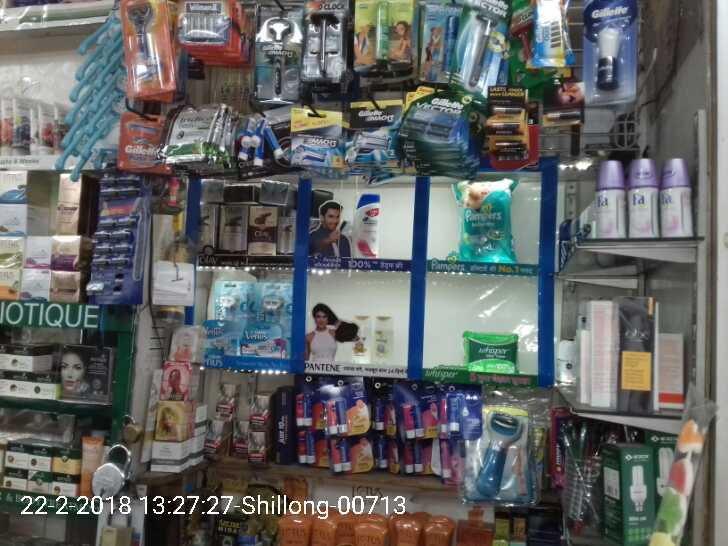gillete: (583, 1, 633, 107), (449, 1, 502, 88), (126, 1, 165, 101), (348, 102, 397, 171), (304, 1, 342, 86), (402, 88, 465, 139), (253, 2, 300, 70), (291, 109, 339, 170), (122, 111, 165, 173), (530, 1, 567, 67), (180, 1, 231, 44)
venus: (49, 17, 118, 185), (256, 284, 297, 317), (213, 283, 246, 323), (240, 326, 281, 352), (204, 323, 231, 351)
